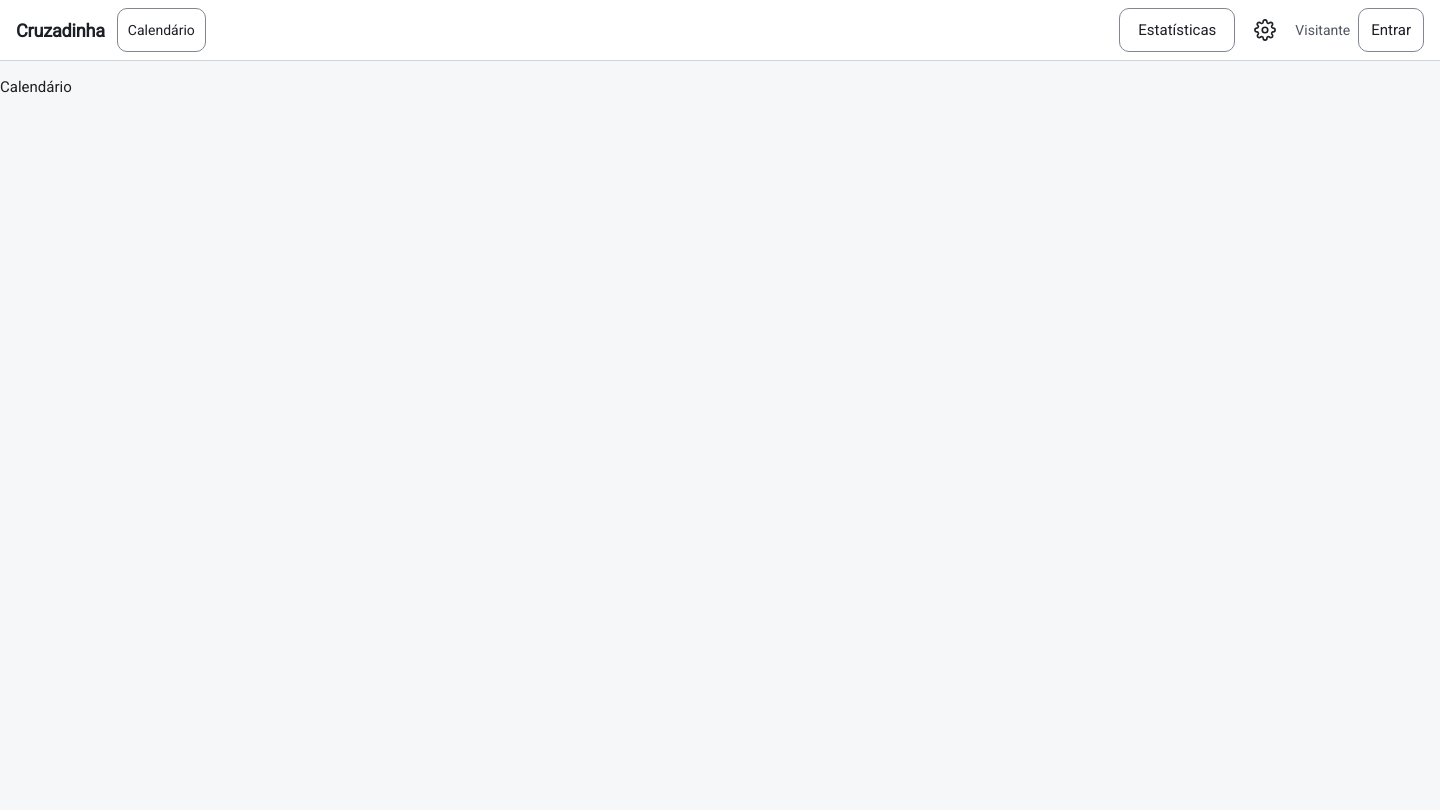
it: engrenagem do cabeçalho › Esc e o botão Fechar fecham e devolvem o foco à engrenagem
The width and height of the screenshot is (1440, 810).
Step 1. Click the button named "Configurações" → coordinates (1265, 30), box 1243,8 -> 1287,52
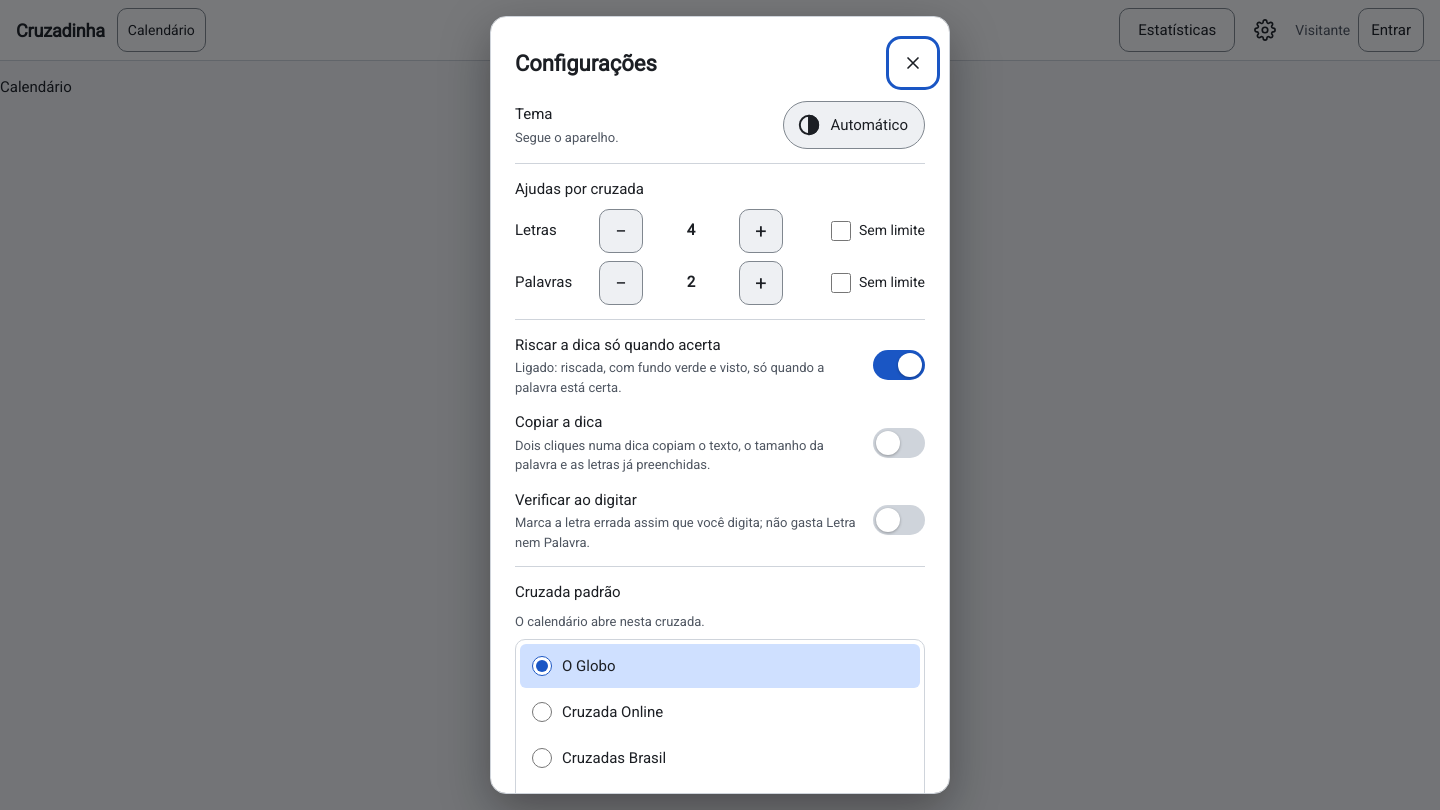
Step 2. Click the button named "Fechar" → coordinates (913, 63), box 891,41 -> 935,85
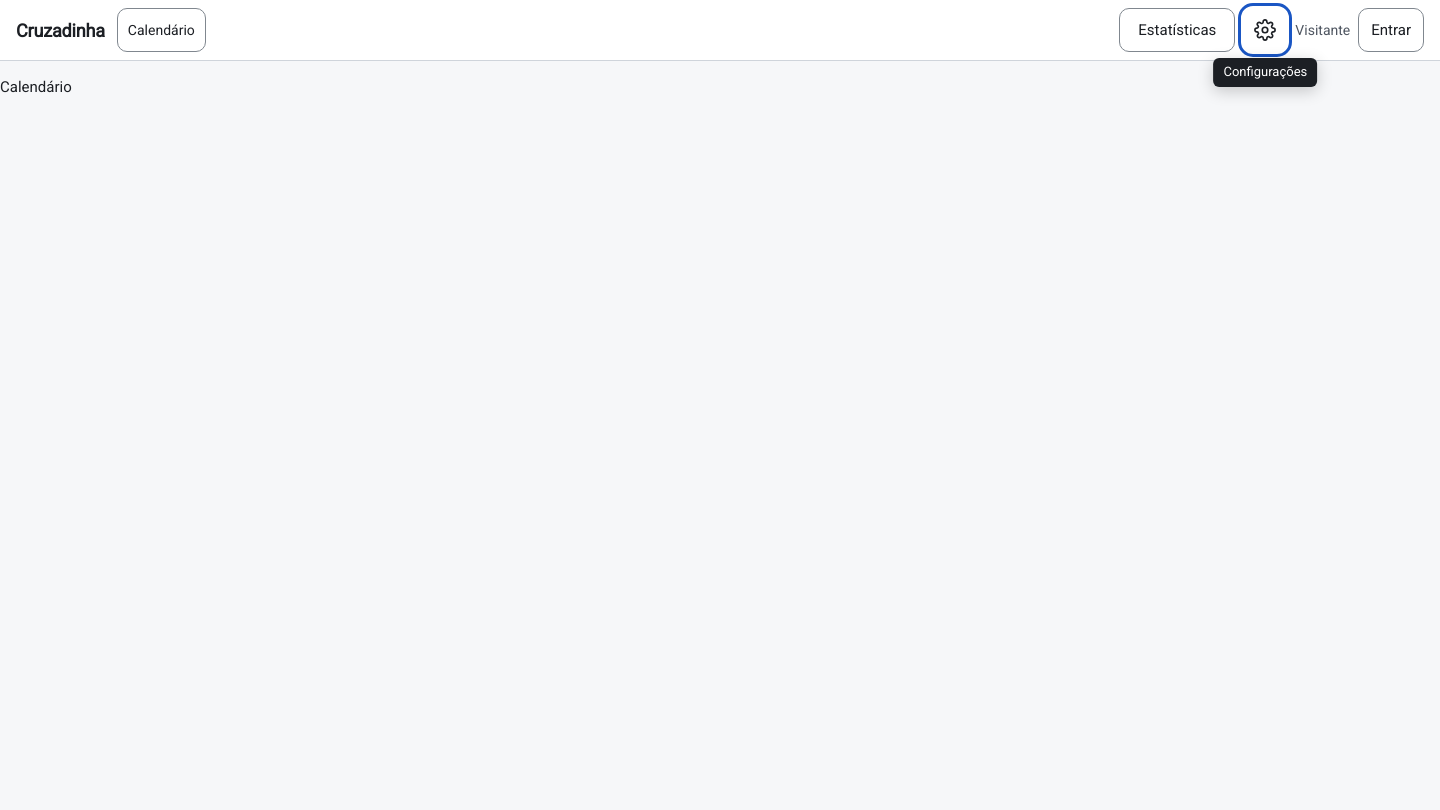
Expected: the dialog is gone
Step 3. Click the button named "Configurações" → coordinates (1265, 30), box 1243,8 -> 1287,52
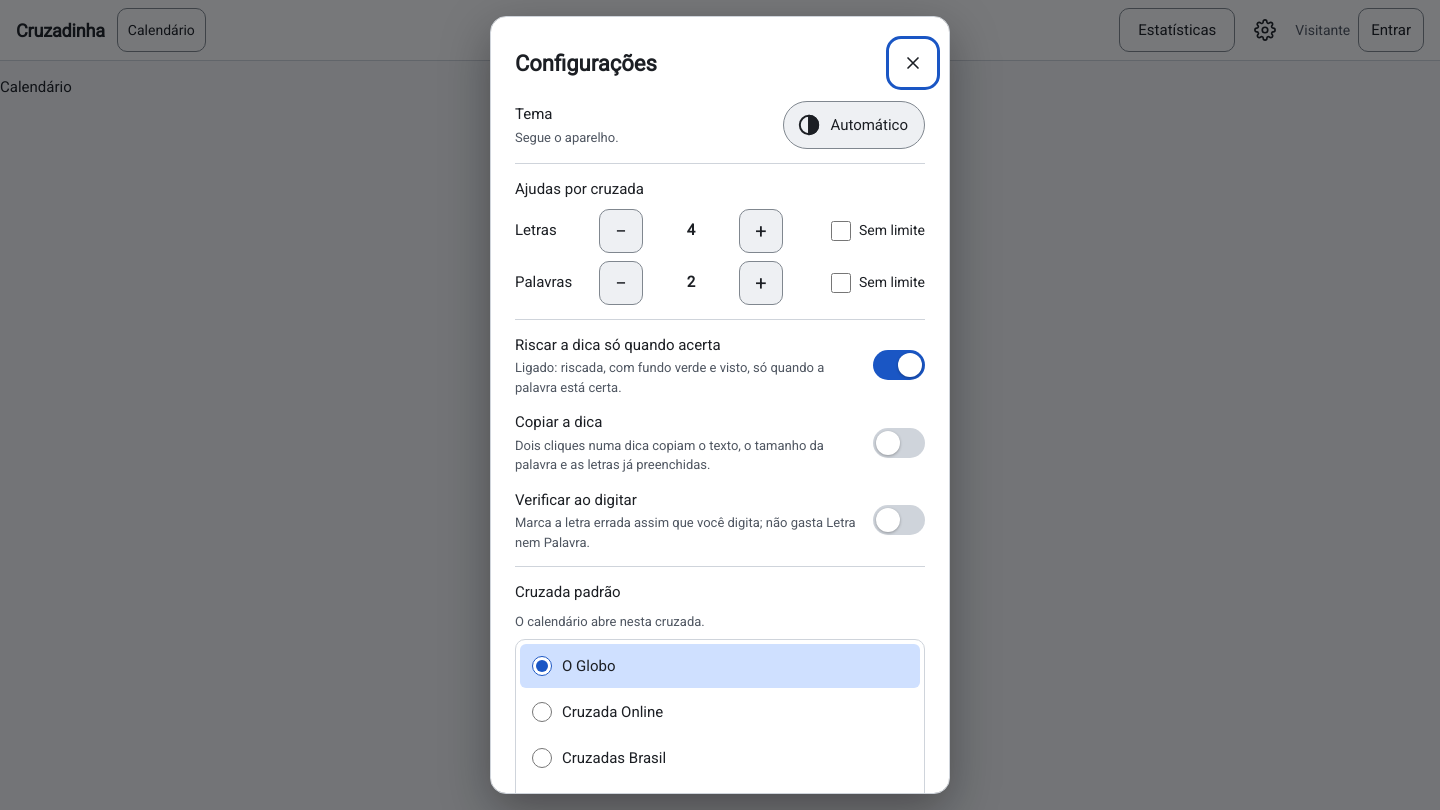
Step 4. Press Escape
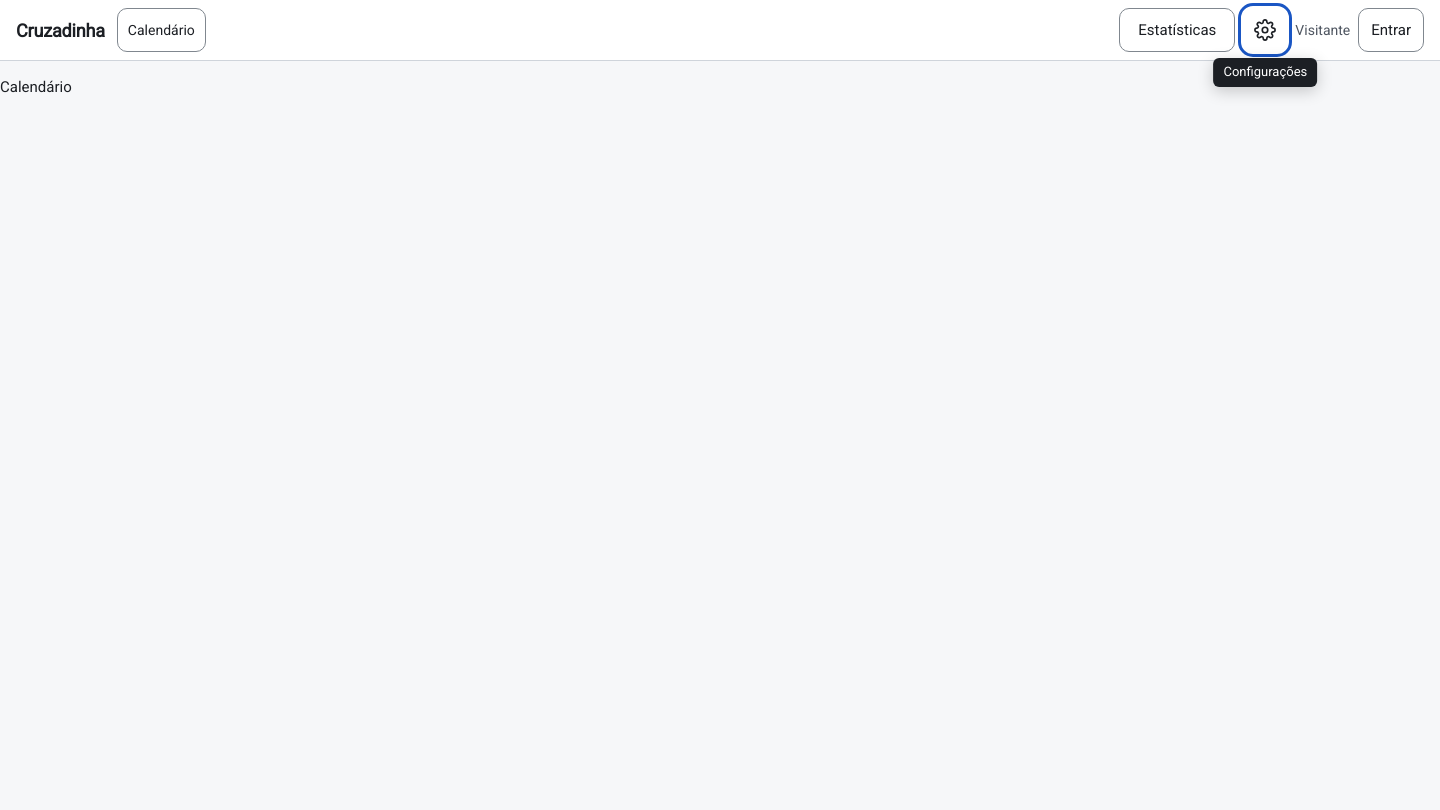
Expected: the dialog is gone
